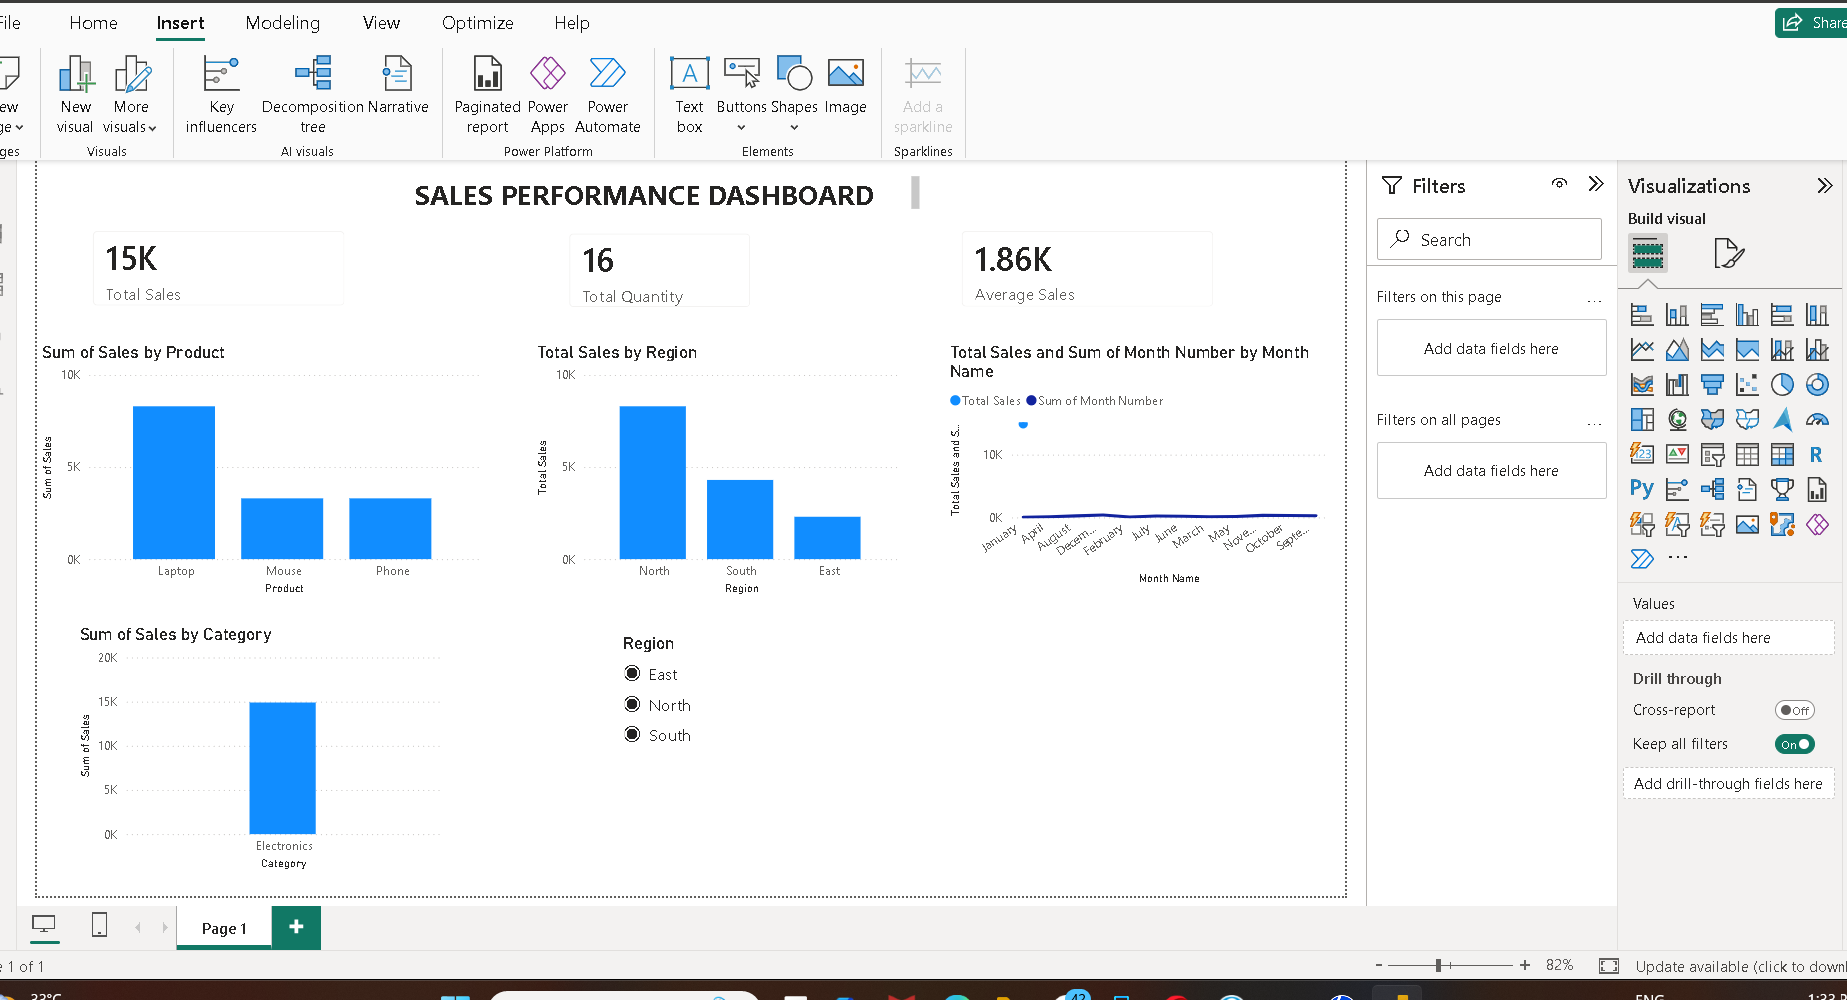

Layout of this report page (visuals, bound fields, positions):
{"tool":"powerbi","page":{"name":"Page 1","canvas":[1280,720],"ordinal":0},"visuals":[{"type":"cardVisual","fields":{"Data":["FactSales.Total Sales"]},"box":[37.9,52.6,280,107.6],"z":0},{"type":"cardVisual","fields":{"Data":["FactSales.Average Sales"]},"box":[887.8,52.6,280,108.8],"z":2},{"type":"columnChart","fields":{"Category":["DimProduct.Product"],"Y":["Sum(FactSales.Sales)"]},"box":[0,177.3,437.8,253.1],"z":3},{"type":"columnChart","fields":{"Category":["FactSales.Region"],"Y":["FactSales.Total Sales"]},"box":[484.2,177.3,364.4,253.1],"z":4},{"type":"lineChart","fields":{"Category":["DimDate.Month Name"],"Y":["FactSales.Total Sales","Sum(DimDate.Month Number)"]},"box":[887.8,177.3,379.1,243.3],"z":5},{"type":"clusteredColumnChart","fields":{"Category":["DimProduct.Category"],"Y":["Sum(FactSales.Sales)"]},"box":[36.7,453.7,364.4,245.8],"z":6},{"type":"listSlicer","fields":{"Values":["FactSales.Region"]},"box":[568.6,462.2,280,258],"z":7},{"type":"textbox","box":[329.3,11,539.3,43.9],"z":9},{"type":"cardVisual","fields":{"Data":["FactSales.Total Quantity"]},"box":[503.8,55,211.6,106.4],"z":10}]}

Visuals, with their boxes on the page's 1280x720 design canvas (x1, y1, x2, y2). These are canvas units, not pixel positions in the 1847x1000 screenshot, which may show the page scaled, cropped or inside an application window:
cardVisual - FactSales.Total Sales: bbox=(38, 53, 318, 160)
cardVisual - FactSales.Average Sales: bbox=(888, 53, 1168, 161)
columnChart - DimProduct.Product x Sum(FactSales.Sales): bbox=(0, 177, 438, 430)
columnChart - FactSales.Region x FactSales.Total Sales: bbox=(484, 177, 849, 430)
lineChart - DimDate.Month Name x FactSales.Total Sales: bbox=(888, 177, 1267, 421)
clusteredColumnChart - DimProduct.Category x Sum(FactSales.Sales): bbox=(37, 454, 401, 700)
listSlicer - FactSales.Region: bbox=(569, 462, 849, 720)
textbox: bbox=(329, 11, 869, 55)
cardVisual - FactSales.Total Quantity: bbox=(504, 55, 715, 161)
